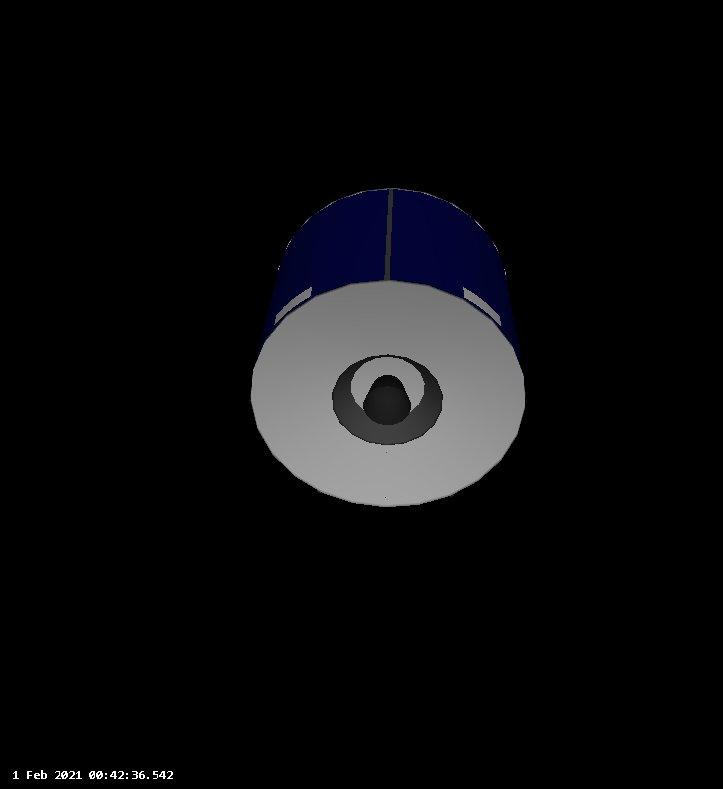body: (250, 184, 529, 510)
solar: (251, 186, 521, 373)
thruster: (364, 373, 414, 425)
